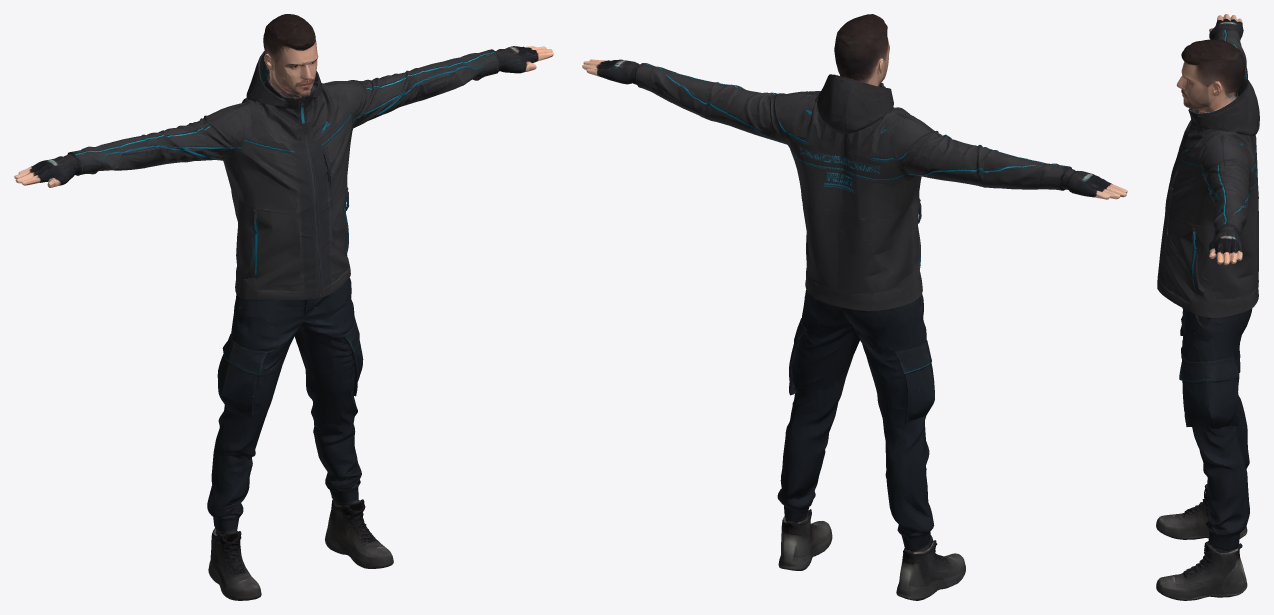
Rendered from hero.glb.
The picture shows the model from 3 angles, left to right: view 1: azimuth 30°, elevation 25°; view 2: azimuth 150°, elevation 25°; view 3: azimuth 270°, elevation 25°; orthographic projection. The views are drawn at different scales.
Visible parts, largest first — view 1: Mesh_0; view 2: Mesh_0; view 3: Mesh_0.
Boxes of the visible parts, <box> form: Mesh_0: <box>14,14,553,600</box>; Mesh_0: <box>582,14,1127,600</box>; Mesh_0: <box>1156,14,1259,600</box>.
Bounding box in the file's own units: 1.9 × 1.86 × 0.3347.
1 material, 1 textured.
